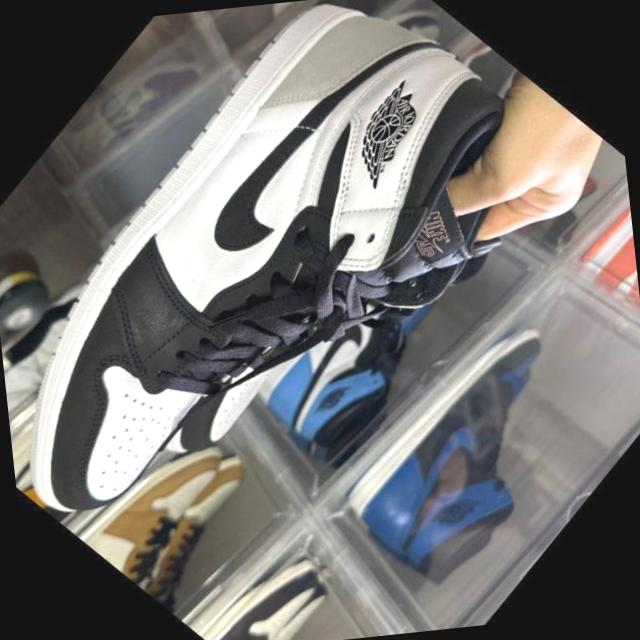nike_original_jordan: (0, 0, 611, 629)
